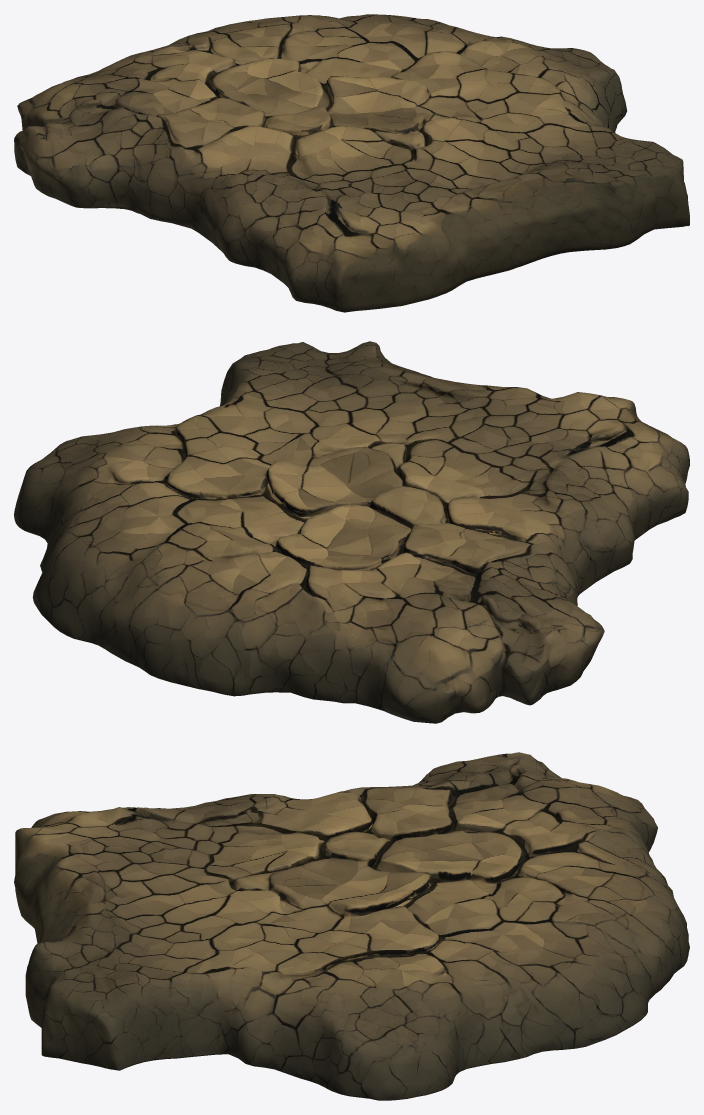
The model's file is island_1.glb.
3 views of the same model, one above another, from view 1: azimuth 30°, elevation 25°; view 2: azimuth 150°, elevation 25°; view 3: azimuth 270°, elevation 25° (orthographic). The views are drawn at different scales.
Size of the model in its own units: 1.91 by 0.2427 by 1.83.
Materials: 1 (1 with a texture image).
